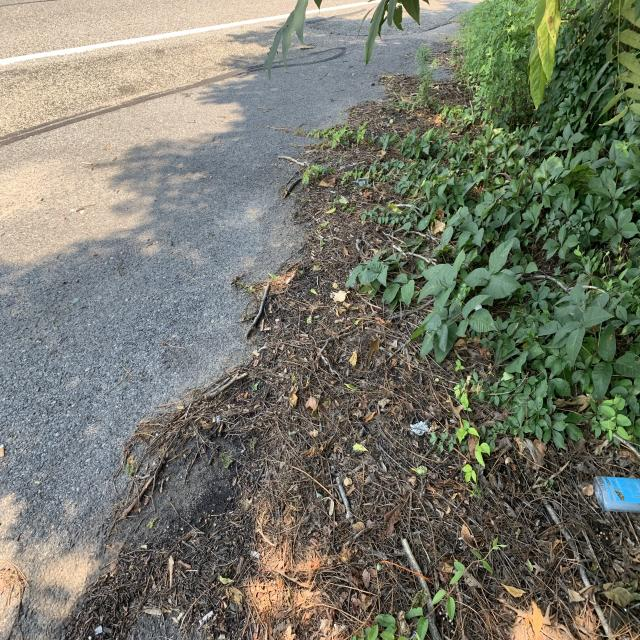Plastic: (588, 474, 640, 516)
